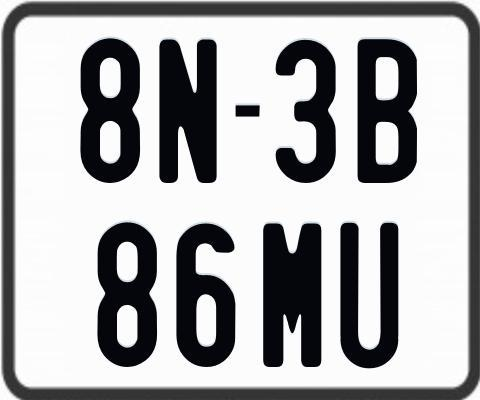3: (275, 38, 337, 182)
6: (173, 223, 233, 373)
8: (80, 36, 146, 187), (94, 220, 158, 371)
B: (355, 39, 415, 189)
M: (262, 223, 323, 373)
N: (157, 37, 218, 184)
U: (339, 223, 400, 371)
